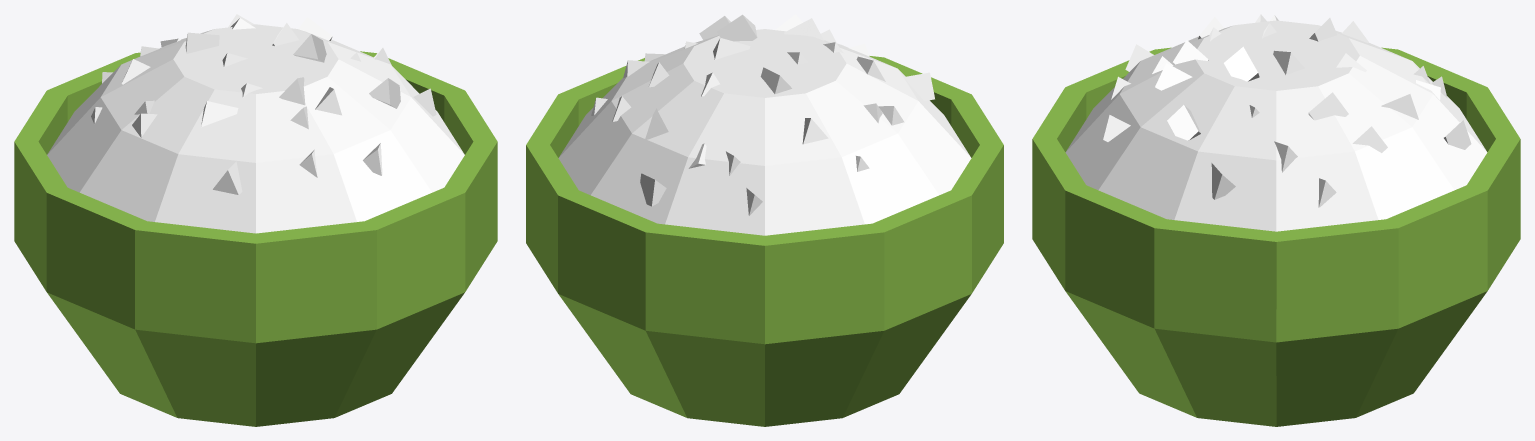
The model's file is Round Rice Bowl.glb.
The picture shows the model from 3 angles, left to right: view 1: azimuth 30°, elevation 25°; view 2: azimuth 150°, elevation 25°; view 3: azimuth 270°, elevation 25°; orthographic projection. The views are drawn at different scales.
Visible parts, largest first — view 1: Node; view 2: Node; view 3: Node.
Part boxes in pixels (x1,y1,x2,y2): Node: (14,14,497,426); Node: (526,14,1003,426); Node: (1032,14,1520,426).
Size of the model in its own units: 0.15 by 0.1128 by 0.15.
